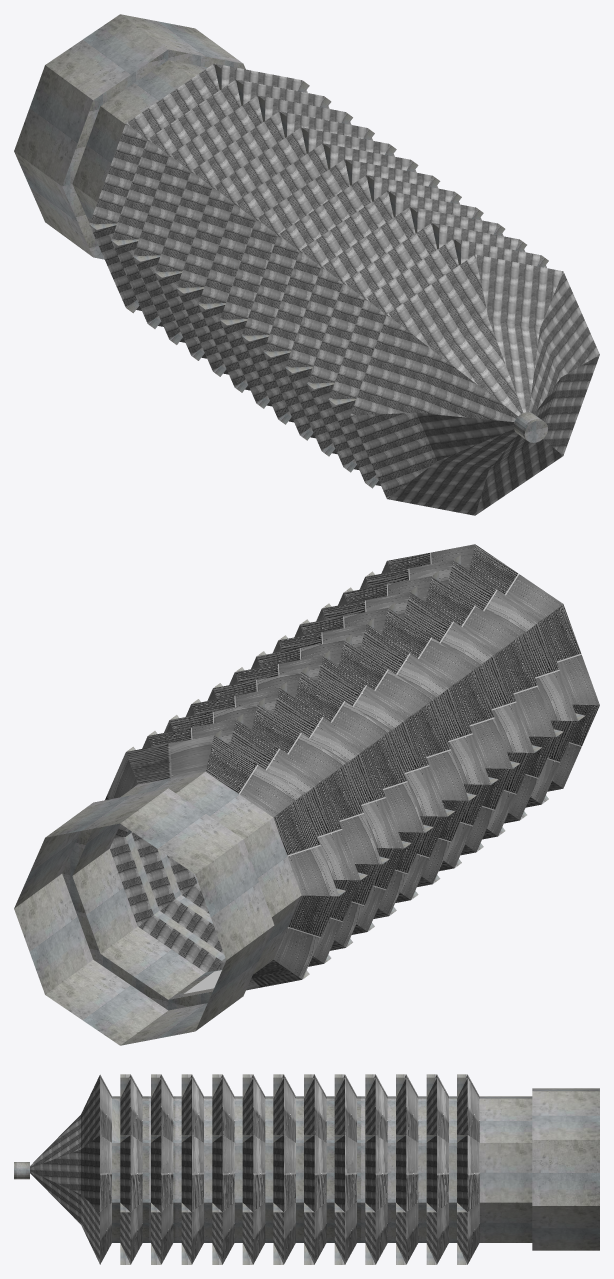
The model's file is boyata2.obj.
The picture shows the model from 3 angles, top to bottom: view 1: azimuth 30°, elevation 25°; view 2: azimuth 150°, elevation 25°; view 3: azimuth 270°, elevation 25°; orthographic projection. The views are drawn at different scales.
Parts seen in each view (by area): view 1: Mesh01, Mesh02, Mesh16_1; view 2: Mesh01; view 3: Mesh01, Mesh16_1.
Part boxes in pixels (x1,y1,x2,y2): Mesh01: (14, 14, 599, 515); Mesh02: (234, 203, 255, 278); Mesh16_1: (513, 412, 547, 442); Mesh01: (14, 544, 599, 1045); Mesh01: (30, 1074, 599, 1264); Mesh16_1: (14, 1162, 29, 1179).
Size of the model in its own units: 130 by 130 by 375.
Materials: 5 (3 with a texture image).
